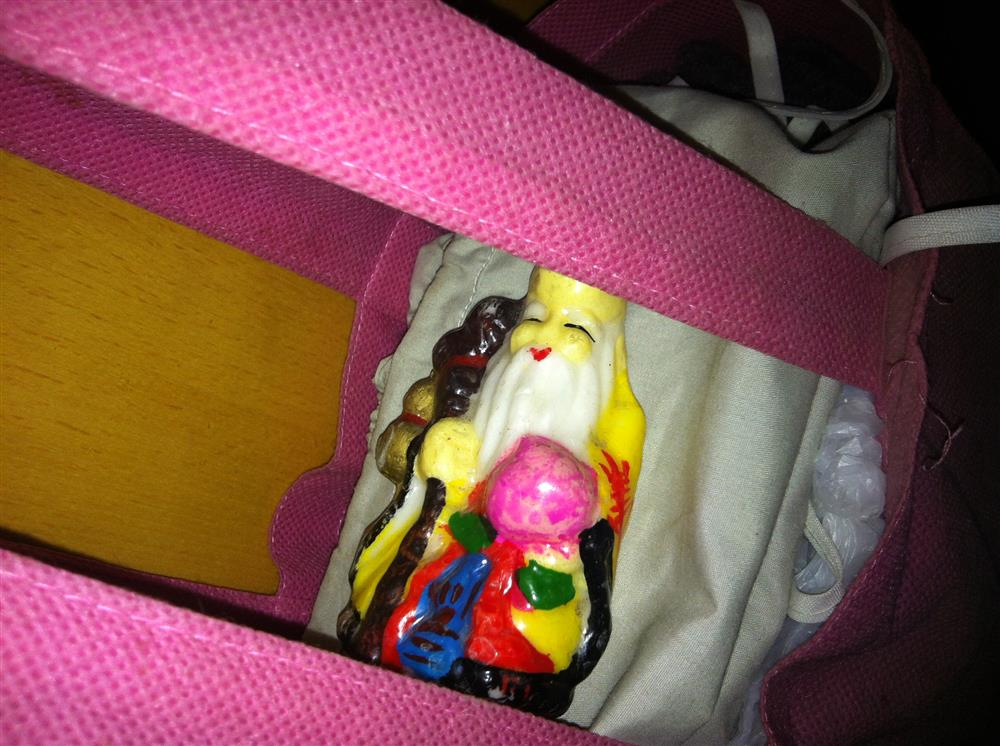oldman_candle: (333, 258, 640, 712)
